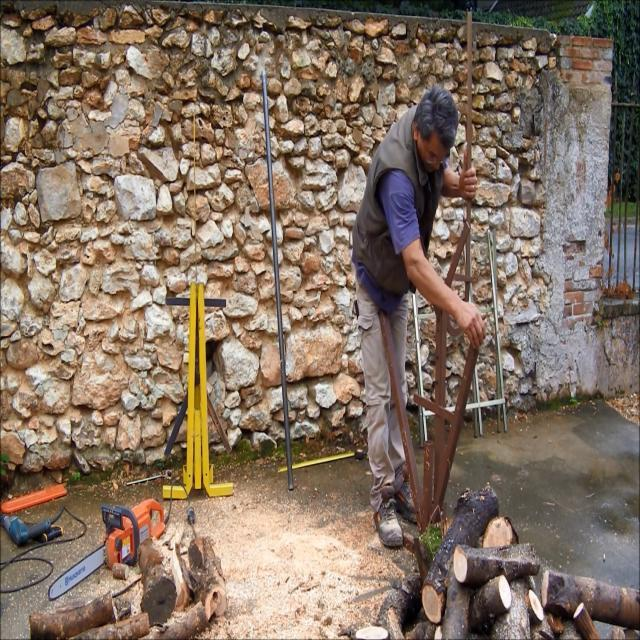Chainsaw: (36, 465, 172, 616)
